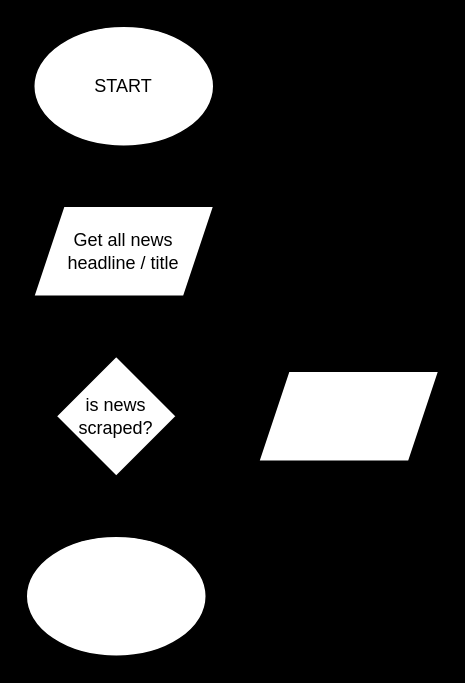
The diagram is 465 pixels wide and 683 high, and some of its shapes have lost their labels. Each missing label, with the centre of its shape:
"END" goes at [115,595].
"Scrape individual content" goes at [348,415].
